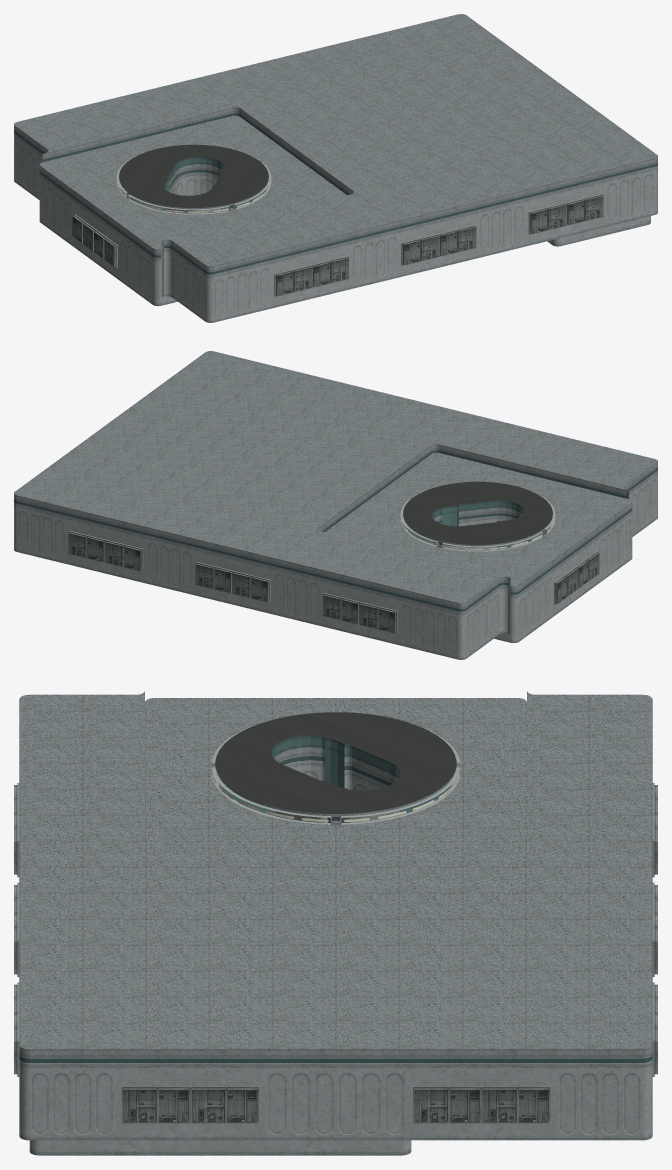
The model's file is mun_all_hospital_s01_r13_mesh.fbx.
3 views of the same model, one above another, from view 1: azimuth 30°, elevation 25°; view 2: azimuth 150°, elevation 25°; view 3: azimuth 270°, elevation 25° (orthographic). The views are drawn at different scales.
Parts seen in each view (by area): view 1: mesh_node; view 2: mesh_node; view 3: mesh_node.
Boxes of the visible parts, x1,y1,x2,y2 form: mesh_node: [14, 14, 657, 322]; mesh_node: [14, 351, 657, 659]; mesh_node: [14, 691, 657, 1155].
Bounding box in the file's own units: 43.55 × 6 × 32.05.
